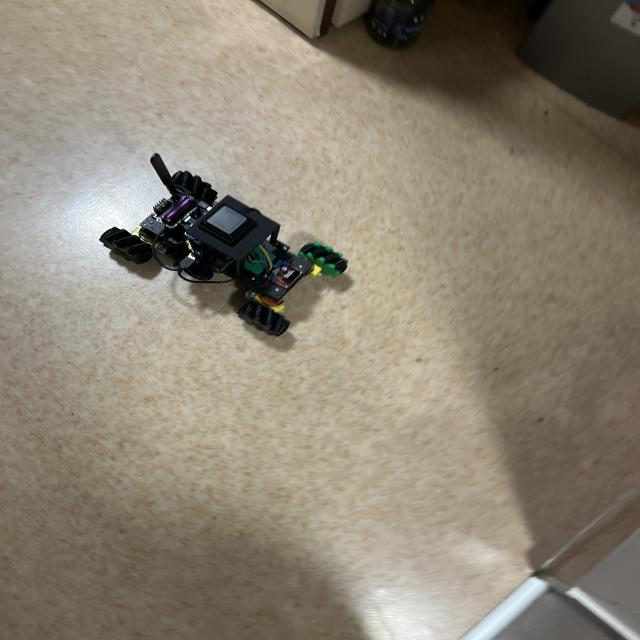robot: (100, 153, 347, 336)
